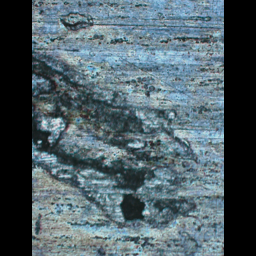d: (32, 54, 201, 231), (56, 11, 98, 33)
